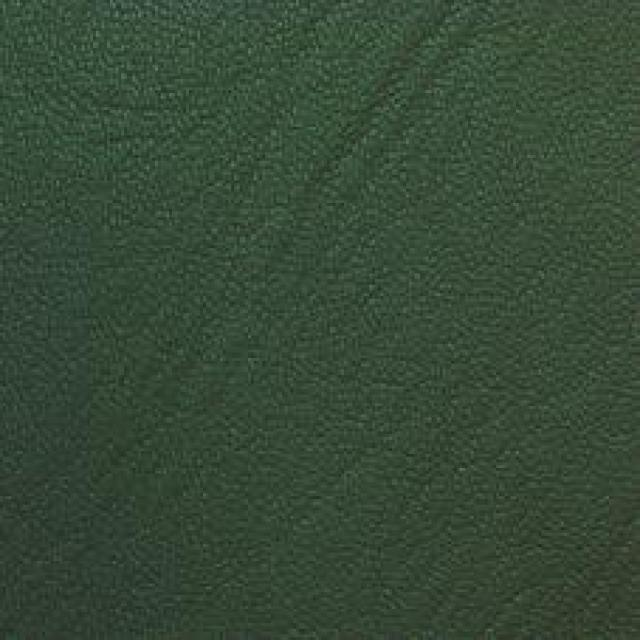Growth Marks: (62, 332, 259, 508), (335, 34, 515, 169), (68, 58, 224, 164)
